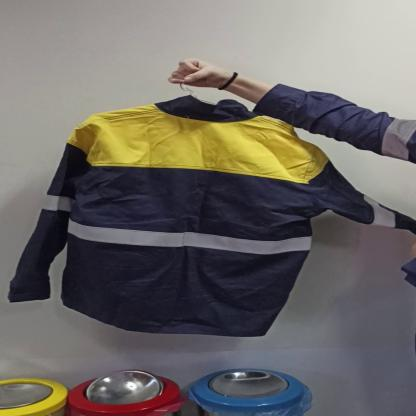C_eletrica: (18, 95, 400, 338)
